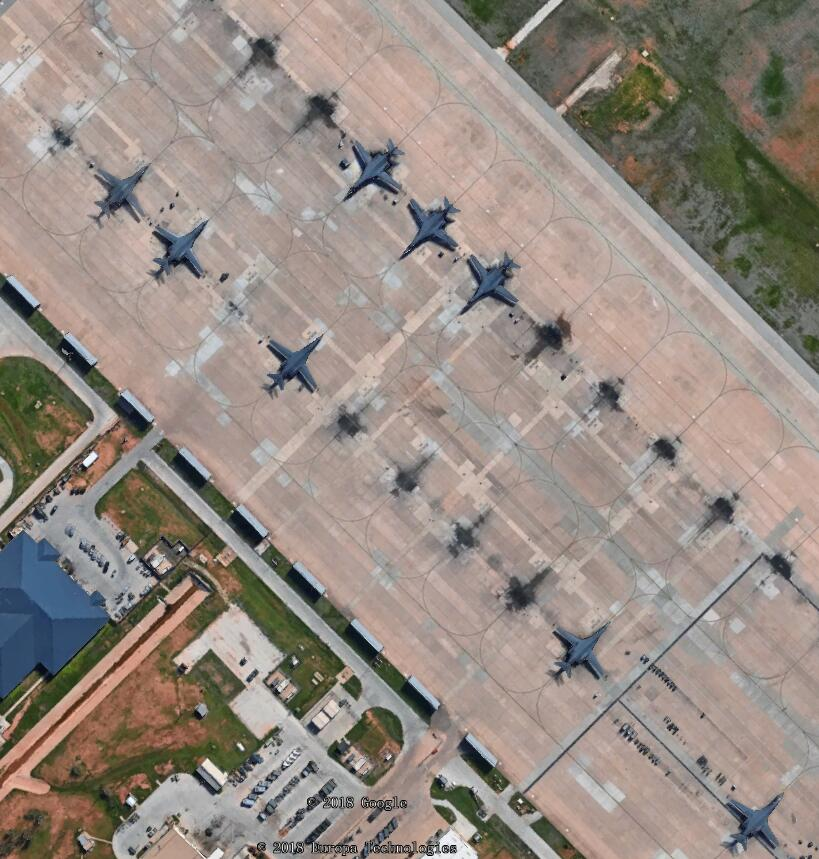A10: (723, 778, 788, 856), (261, 328, 325, 399), (342, 133, 405, 201), (552, 614, 609, 685), (89, 160, 153, 223), (150, 221, 213, 284), (403, 195, 461, 261), (463, 248, 518, 316)
